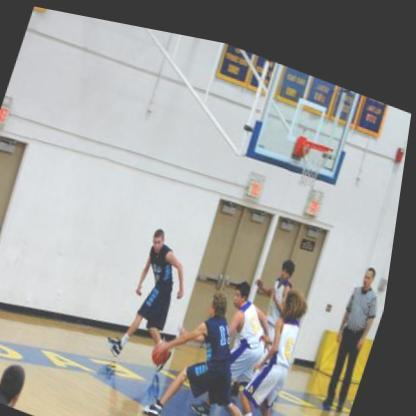basketball: (158, 333, 182, 362)
